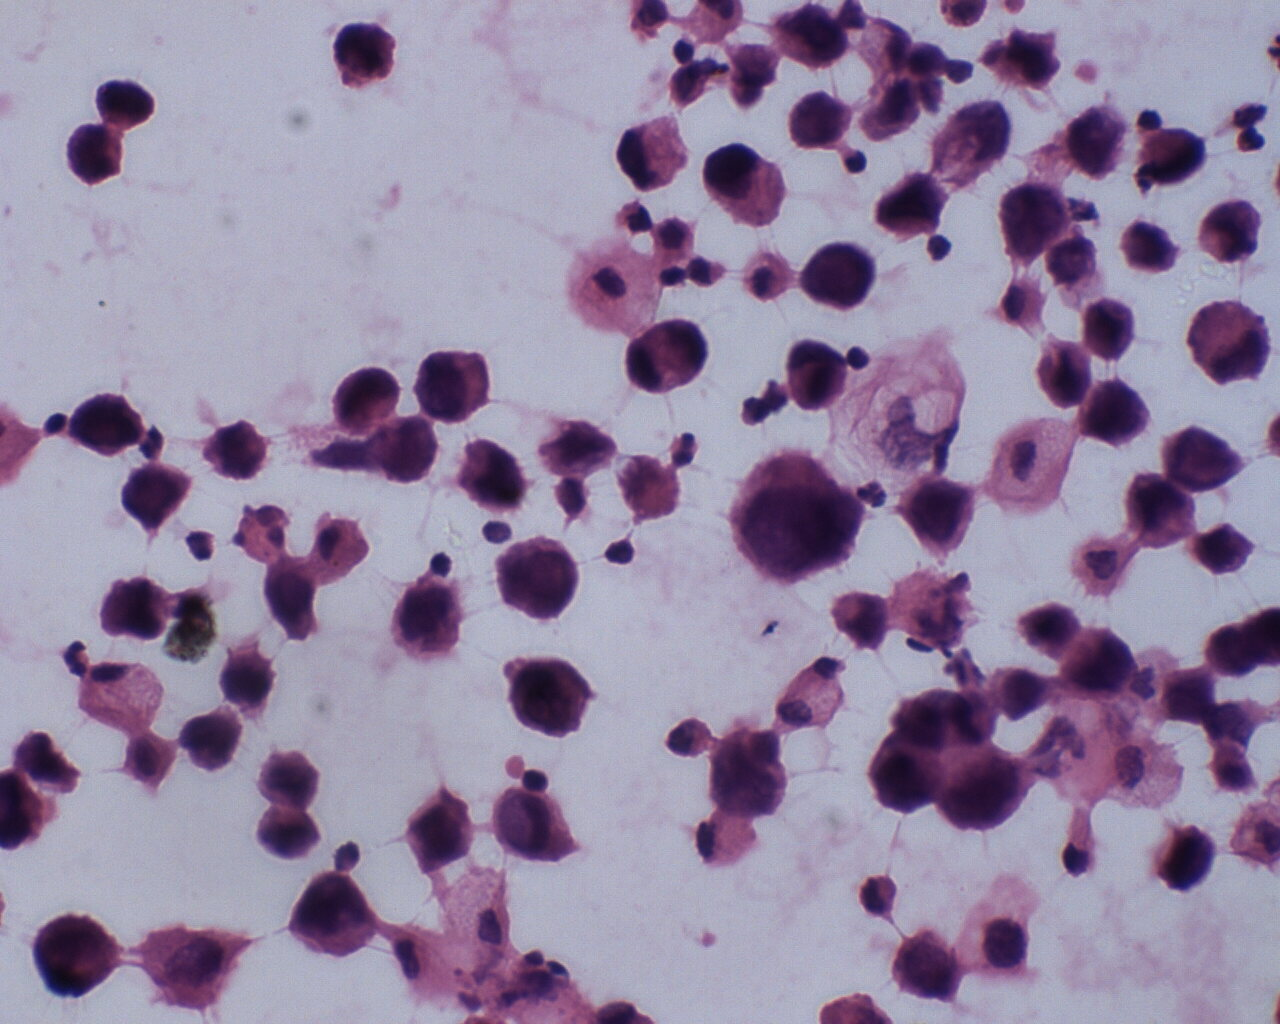ab: (735, 444, 859, 592), (497, 648, 595, 745), (29, 912, 123, 1006), (285, 872, 379, 964), (491, 537, 584, 629), (486, 786, 584, 871), (701, 138, 788, 232), (863, 724, 948, 820), (893, 473, 981, 564), (996, 180, 1075, 276), (401, 788, 478, 879), (796, 234, 878, 317), (1058, 619, 1136, 702), (390, 581, 467, 665), (887, 931, 973, 1006), (256, 552, 326, 644), (1119, 471, 1198, 552), (412, 348, 490, 426), (1077, 375, 1153, 453), (455, 433, 529, 511), (871, 162, 942, 240), (1135, 122, 1215, 191), (332, 363, 404, 438), (59, 117, 130, 190), (255, 742, 326, 812), (1192, 196, 1262, 265), (213, 643, 280, 714), (788, 91, 858, 156), (182, 705, 245, 775), (334, 19, 399, 85), (256, 805, 320, 868), (1078, 296, 1136, 360)
histo: (986, 419, 1079, 516), (76, 654, 167, 732)
